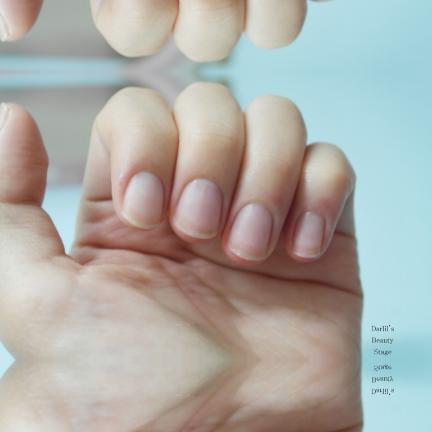Nail: (173, 178, 223, 239), (227, 204, 273, 261), (122, 172, 164, 229), (293, 211, 325, 258)
